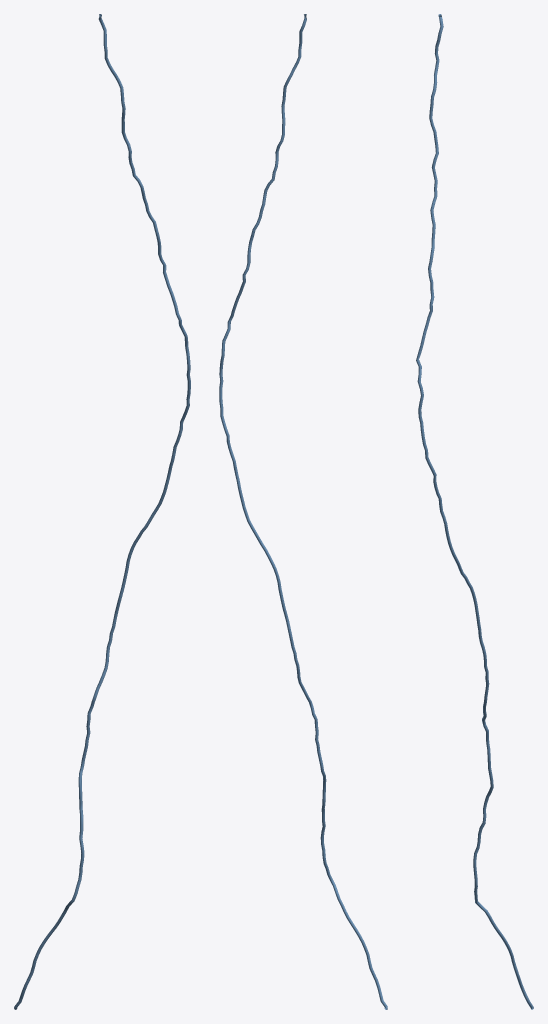
File: sweep67.fbx
3 views of the same model, side by side, from view 1: azimuth 30°, elevation 25°; view 2: azimuth 210°, elevation 25°; view 3: azimuth 270°, elevation 25° (orthographic). The views are drawn at different scales.
Visible parts, largest first — view 1: sweep67; view 2: sweep67; view 3: sweep67.
Part boxes in pixels (x1,y1,x2,y2): sweep67: [14, 14, 190, 1009]; sweep67: [219, 14, 387, 1009]; sweep67: [416, 14, 533, 1009].
Bounding box in the file's own units: 0.8583 × 6.83 × 0.7202.
